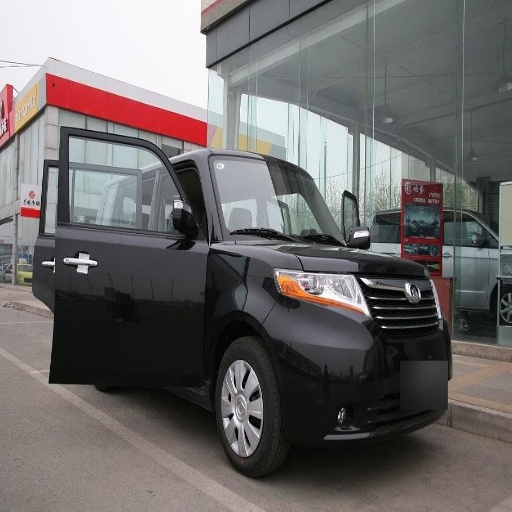front_bumper: (289, 274, 449, 442)
front_right_door: (88, 172, 209, 384)
front_right_light: (275, 272, 367, 315)
hood: (300, 244, 385, 274)
